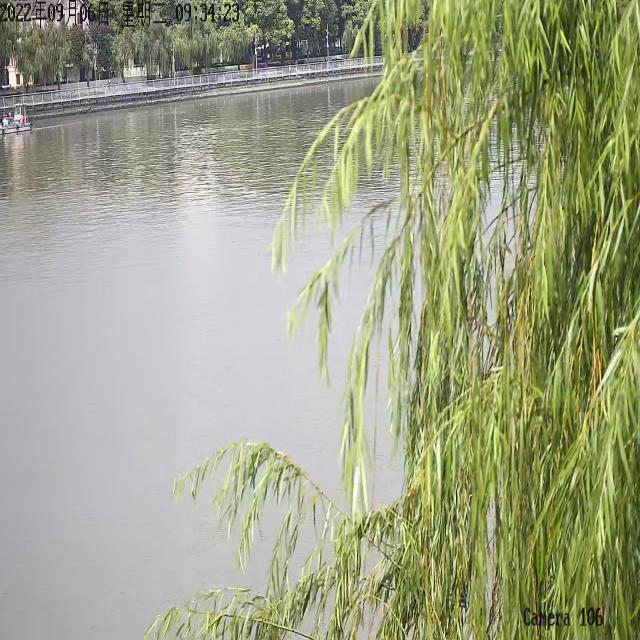ship: (0, 101, 31, 134)
